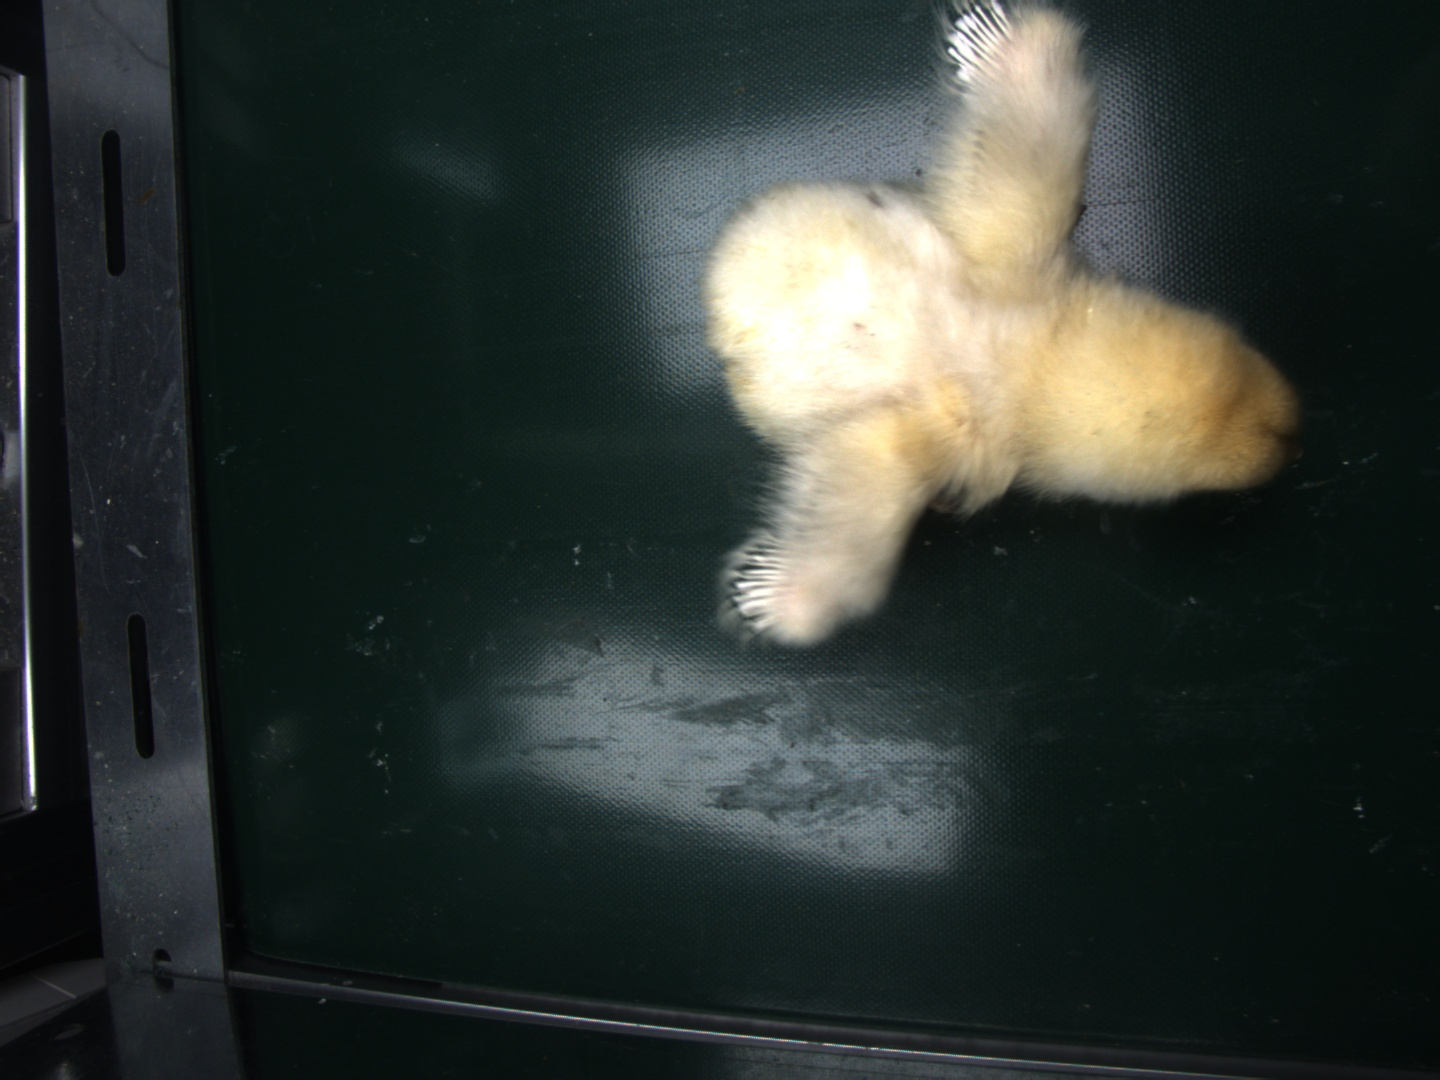male: (941, 1, 1018, 83), (730, 543, 791, 628)
